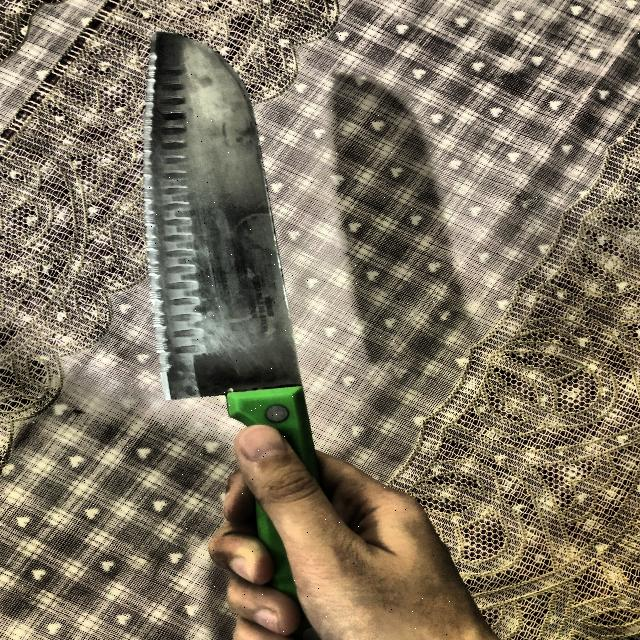knife: (144, 32, 341, 640)
